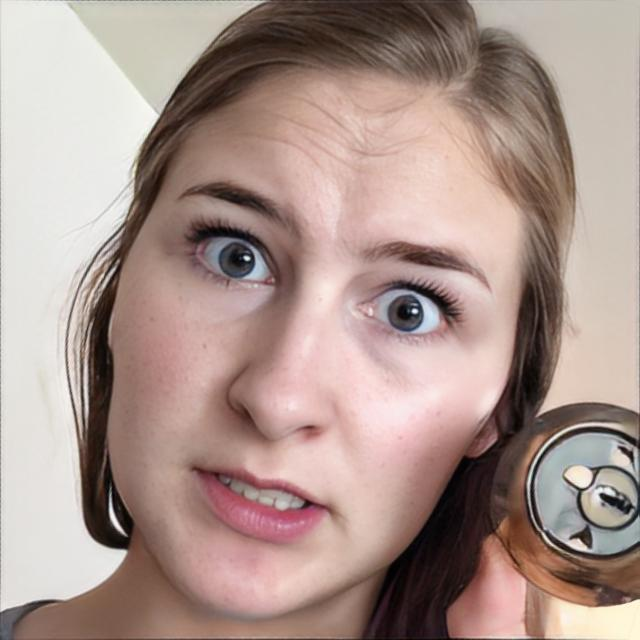fear: (104, 55, 530, 616)
